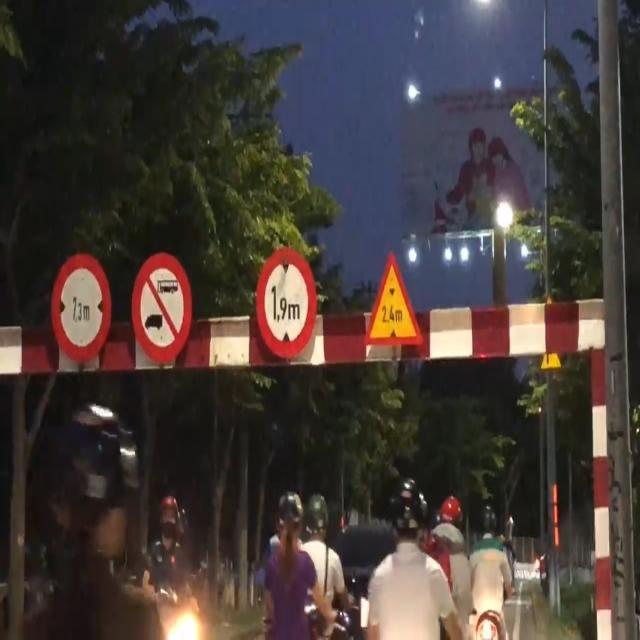Bien bao cam xe oto khach va xe oto tai: (132, 248, 197, 370)
Bien bao chieu cao tinh khong thuc te: (362, 242, 431, 352)
Bien bao han che chieu cao: (254, 243, 318, 367)
